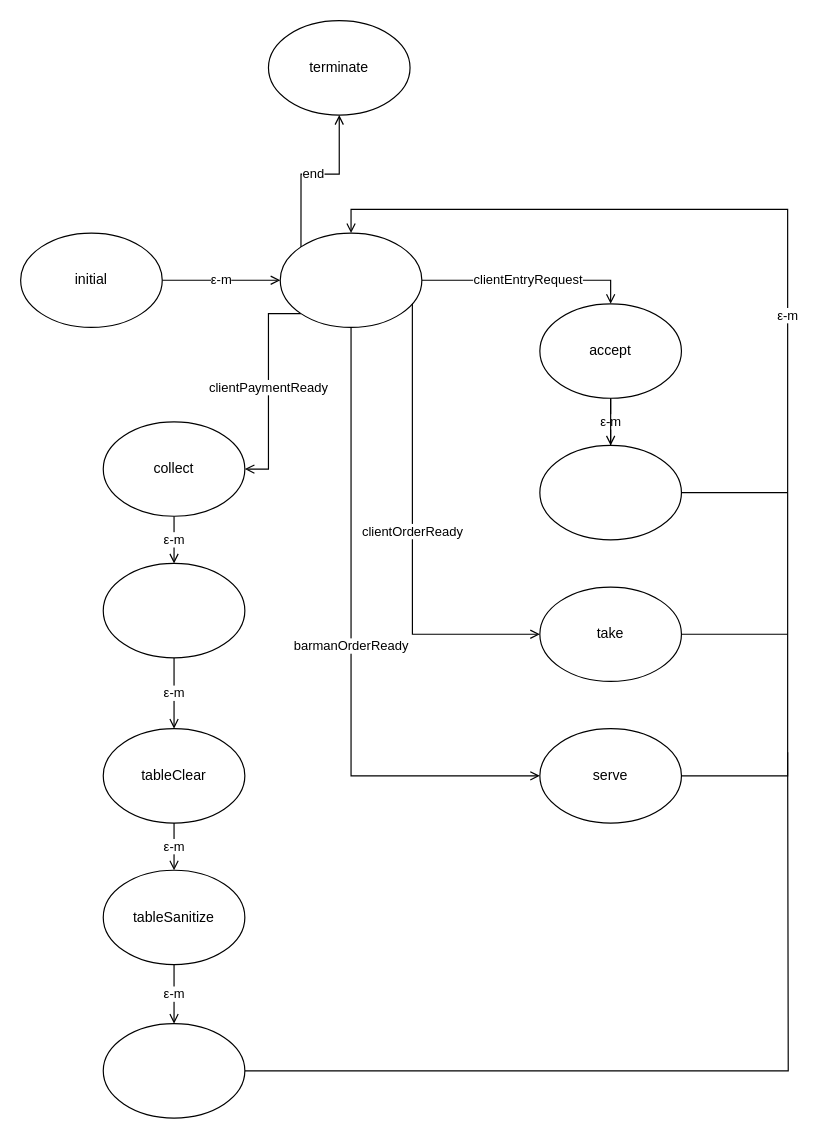
The diagram is 819 pixels wide and 1139 high, and some of its shapes have lost their labels. Each missing label, with the box of its shape:
convoy: (102, 562, 245, 658)
reach: (539, 444, 681, 540)
rest: (279, 232, 422, 327)
tableClean: (102, 1022, 245, 1118)
